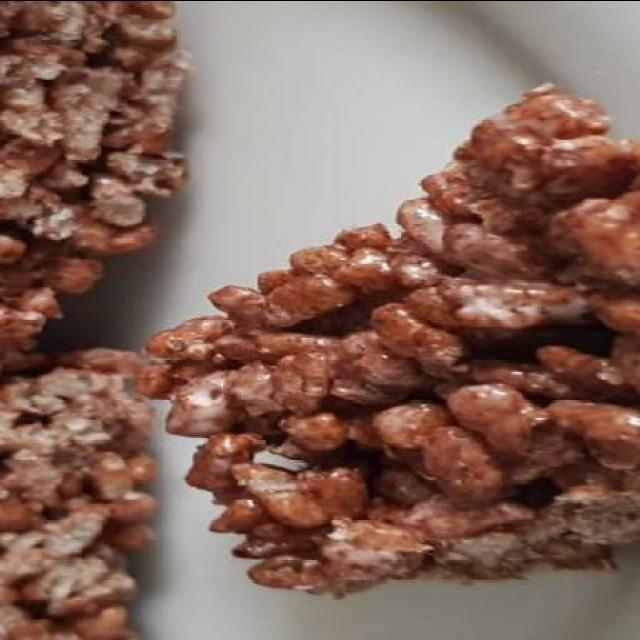Cereal bar packaged: (143, 91, 639, 617)
